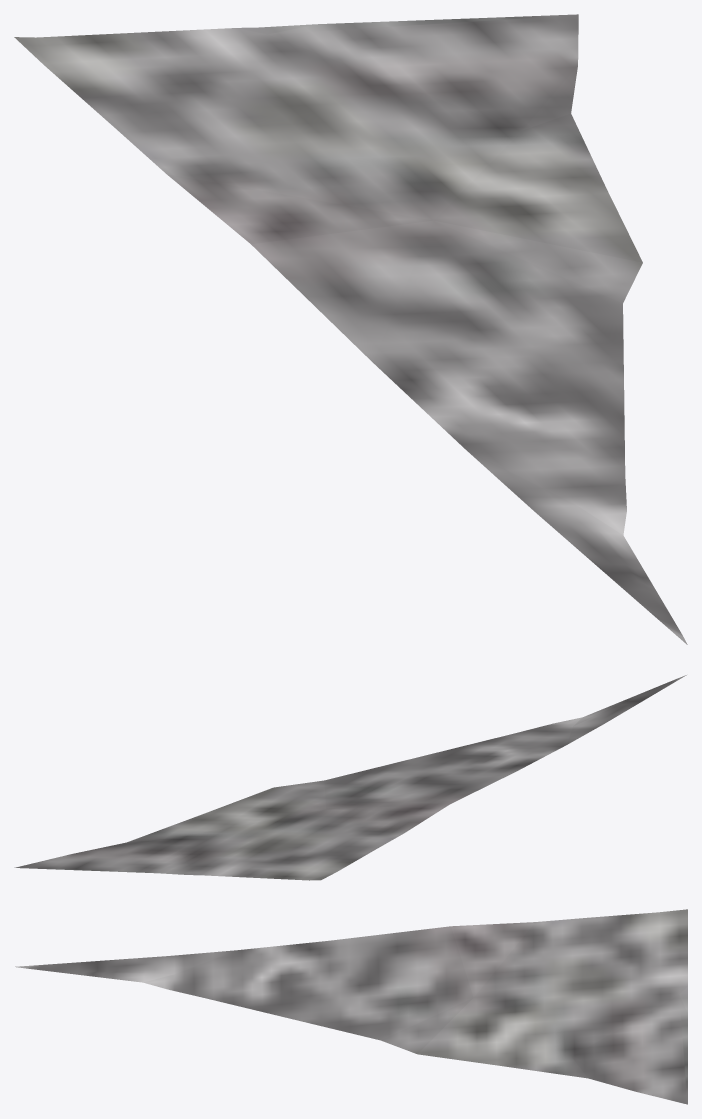
3 renders of one model, top to bottom at view 1: azimuth 30°, elevation 25°; view 2: azimuth 150°, elevation 25°; view 3: azimuth 270°, elevation 25°, orthographic. The views are drawn at different scales.
Bounding box in the file's own units: 0.1078 × 0.021 × 0.2229.
Materials: 1 (1 with a texture image).
